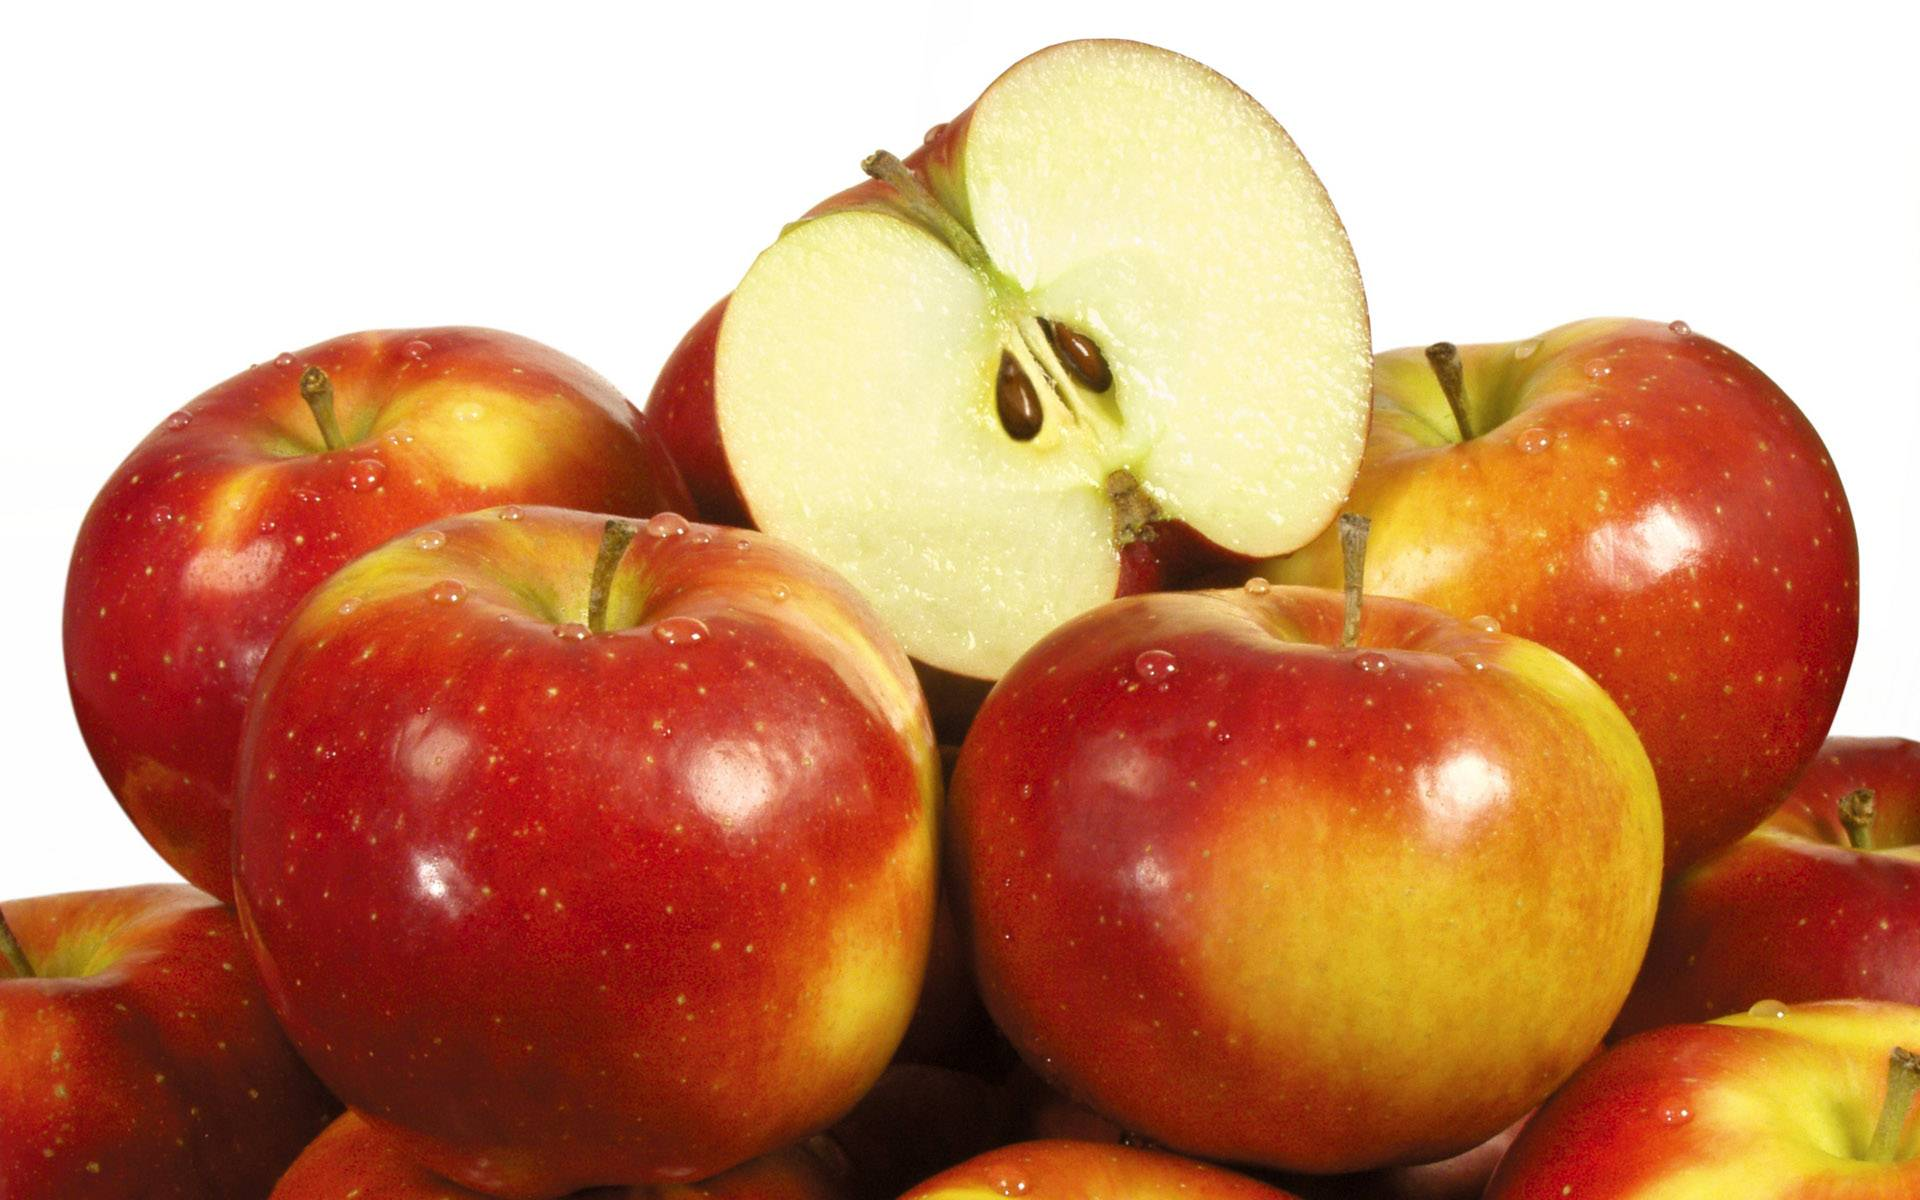apple: (219, 494, 946, 1173), (930, 598, 1667, 1174), (78, 323, 744, 945), (1228, 312, 1896, 916)
